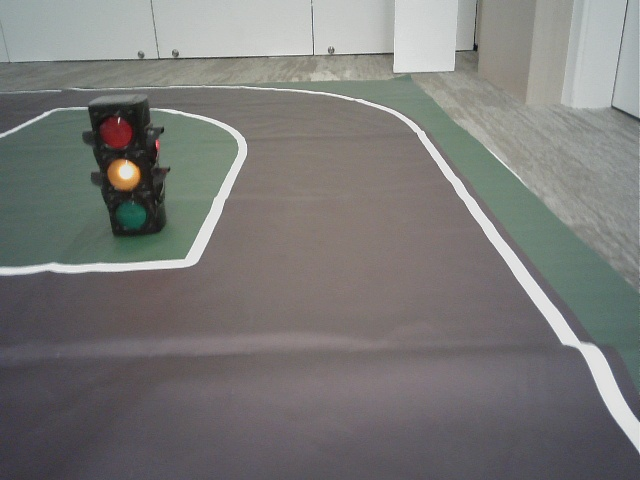yellow: (96, 108, 149, 230)
